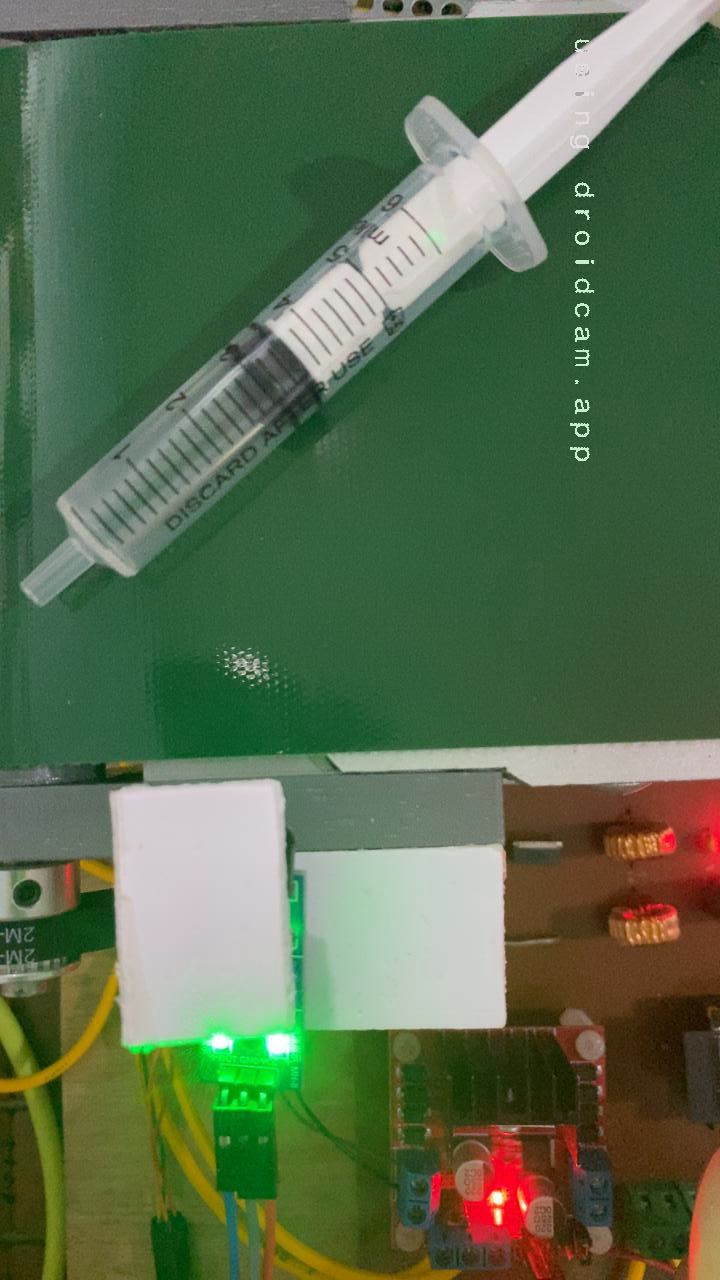syringe: (16, 21, 720, 610)
